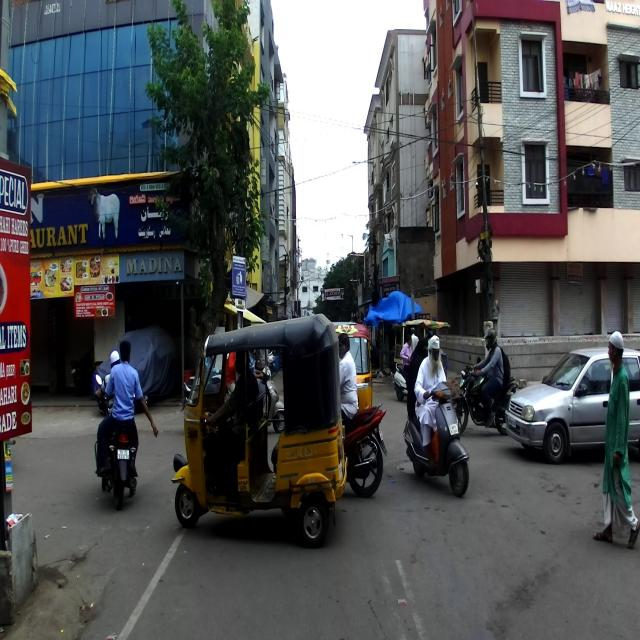autorickshaw: (170, 311, 348, 546)
car: (508, 334, 640, 453), (93, 324, 183, 423)
motorcycle: (93, 374, 153, 514), (455, 351, 522, 430), (340, 402, 388, 499)
scooter: (403, 377, 470, 498)
